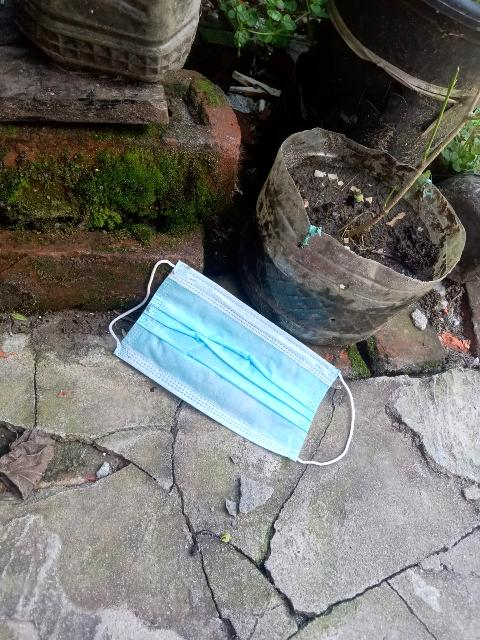mask: (89, 252, 380, 472)
